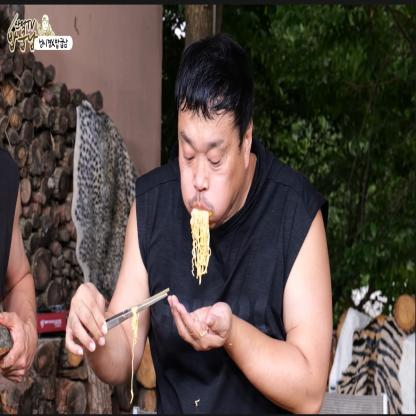streamer: (66, 36, 332, 416), (1, 148, 38, 382)
